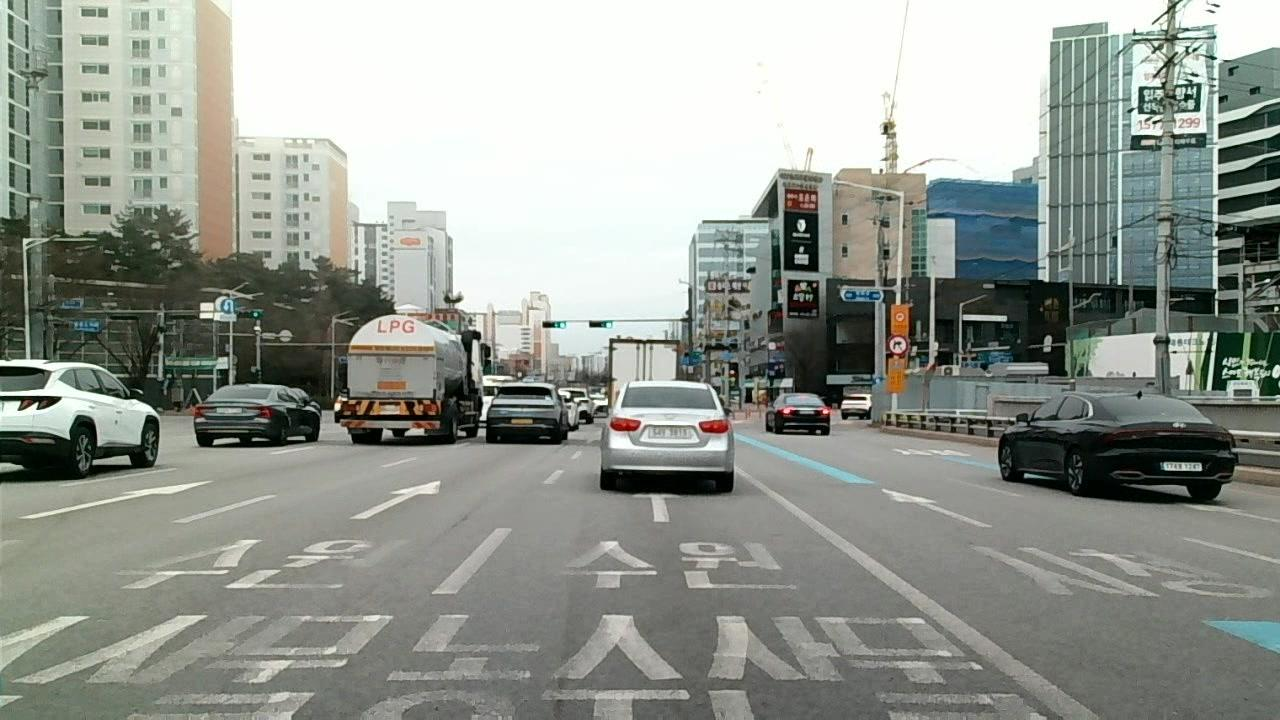vcrack: (436, 509, 476, 539)
